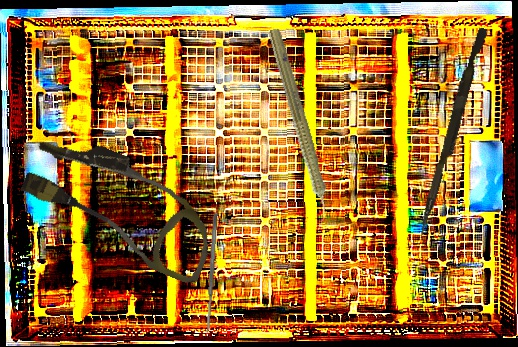Cannula: (11, 124, 231, 287)
Handpiece: (260, 26, 340, 232)
Pusher: (417, 25, 488, 240)
Spatula Surgical: (204, 212, 219, 334)
